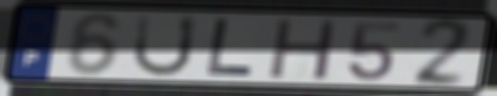2: (408, 14, 474, 91)
5: (346, 19, 404, 82)
6: (62, 10, 126, 80)
H: (265, 16, 342, 82)
L: (203, 16, 257, 79)
U: (129, 13, 200, 79)
